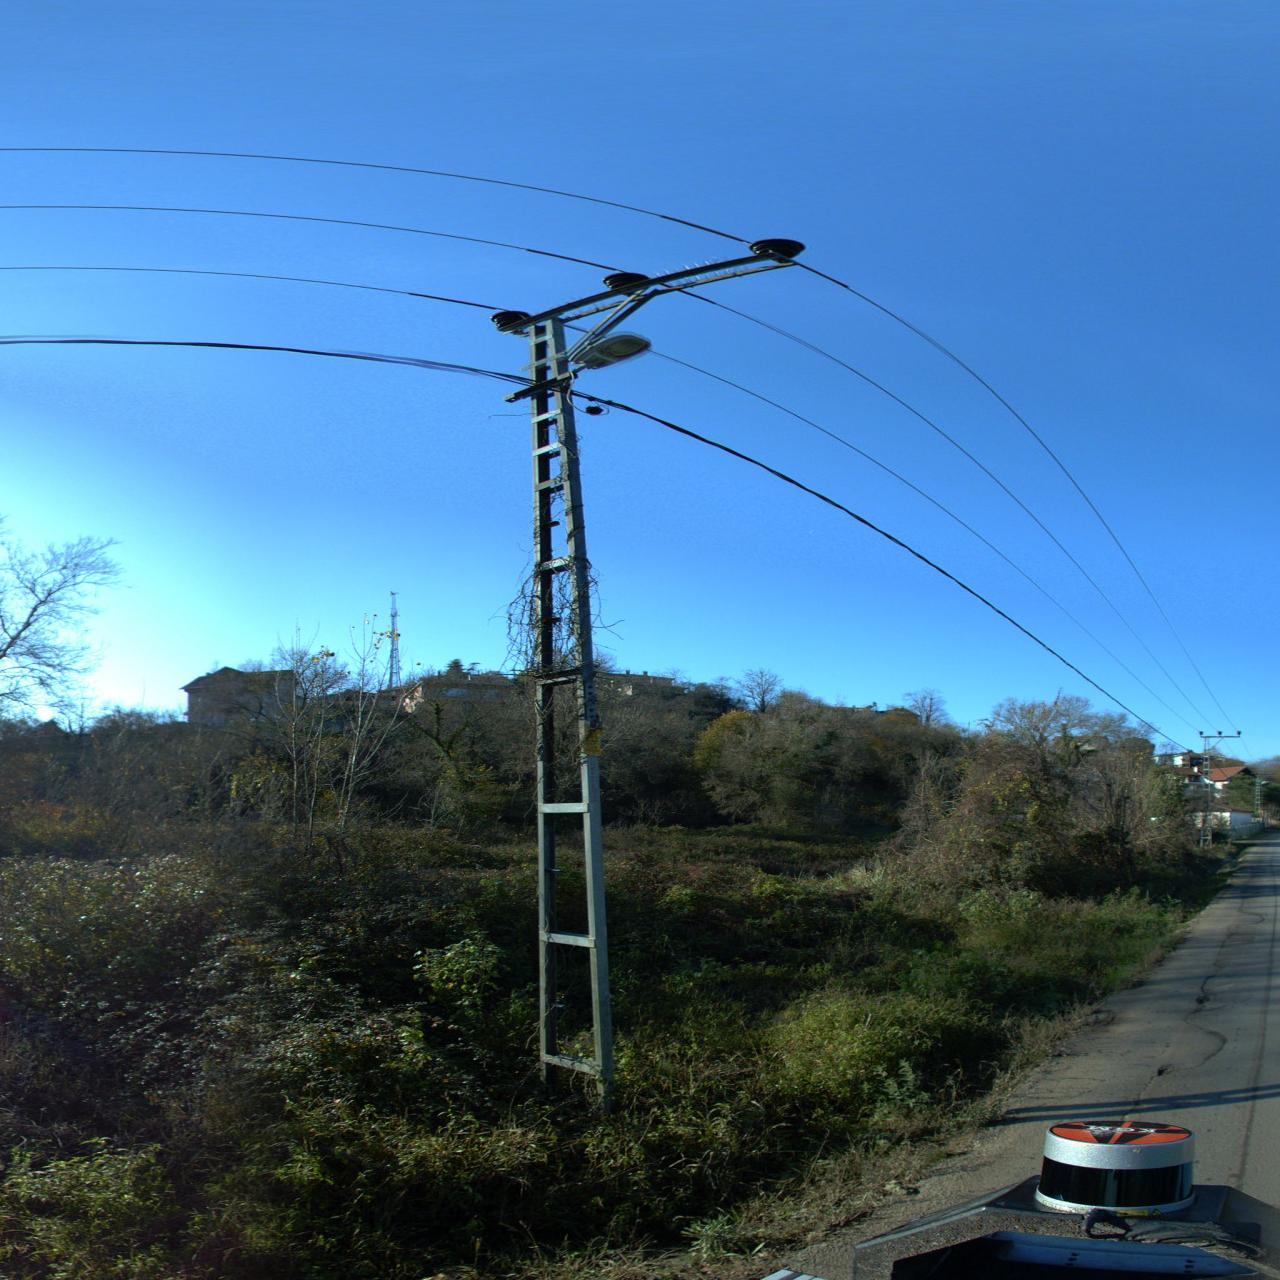Utility Pole Information Plate: (581, 727, 602, 757)
